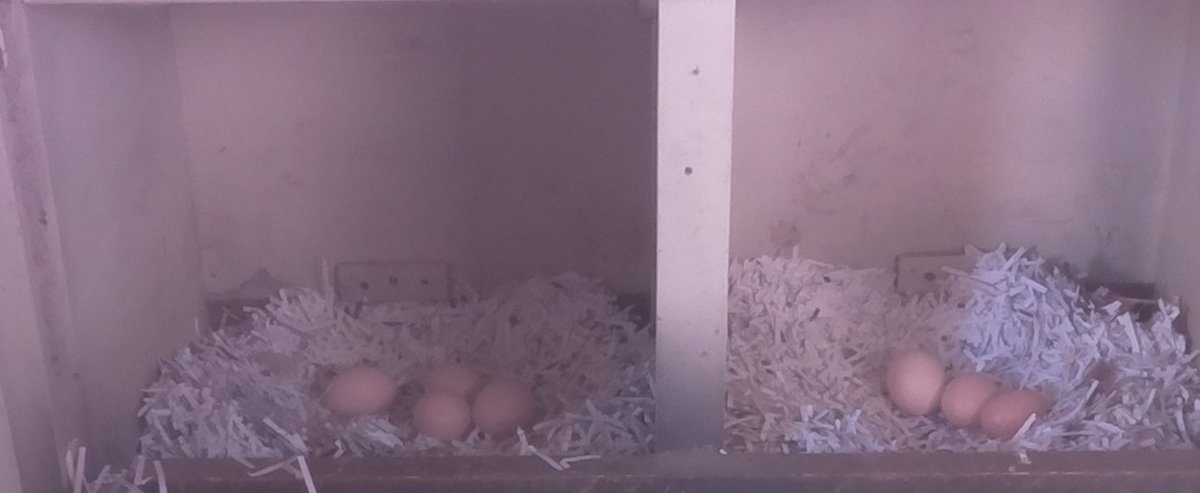egg: (468, 374, 545, 443), (884, 347, 950, 426), (323, 362, 403, 423), (975, 382, 1050, 442), (408, 385, 478, 448), (942, 370, 1005, 428), (417, 362, 489, 399)
